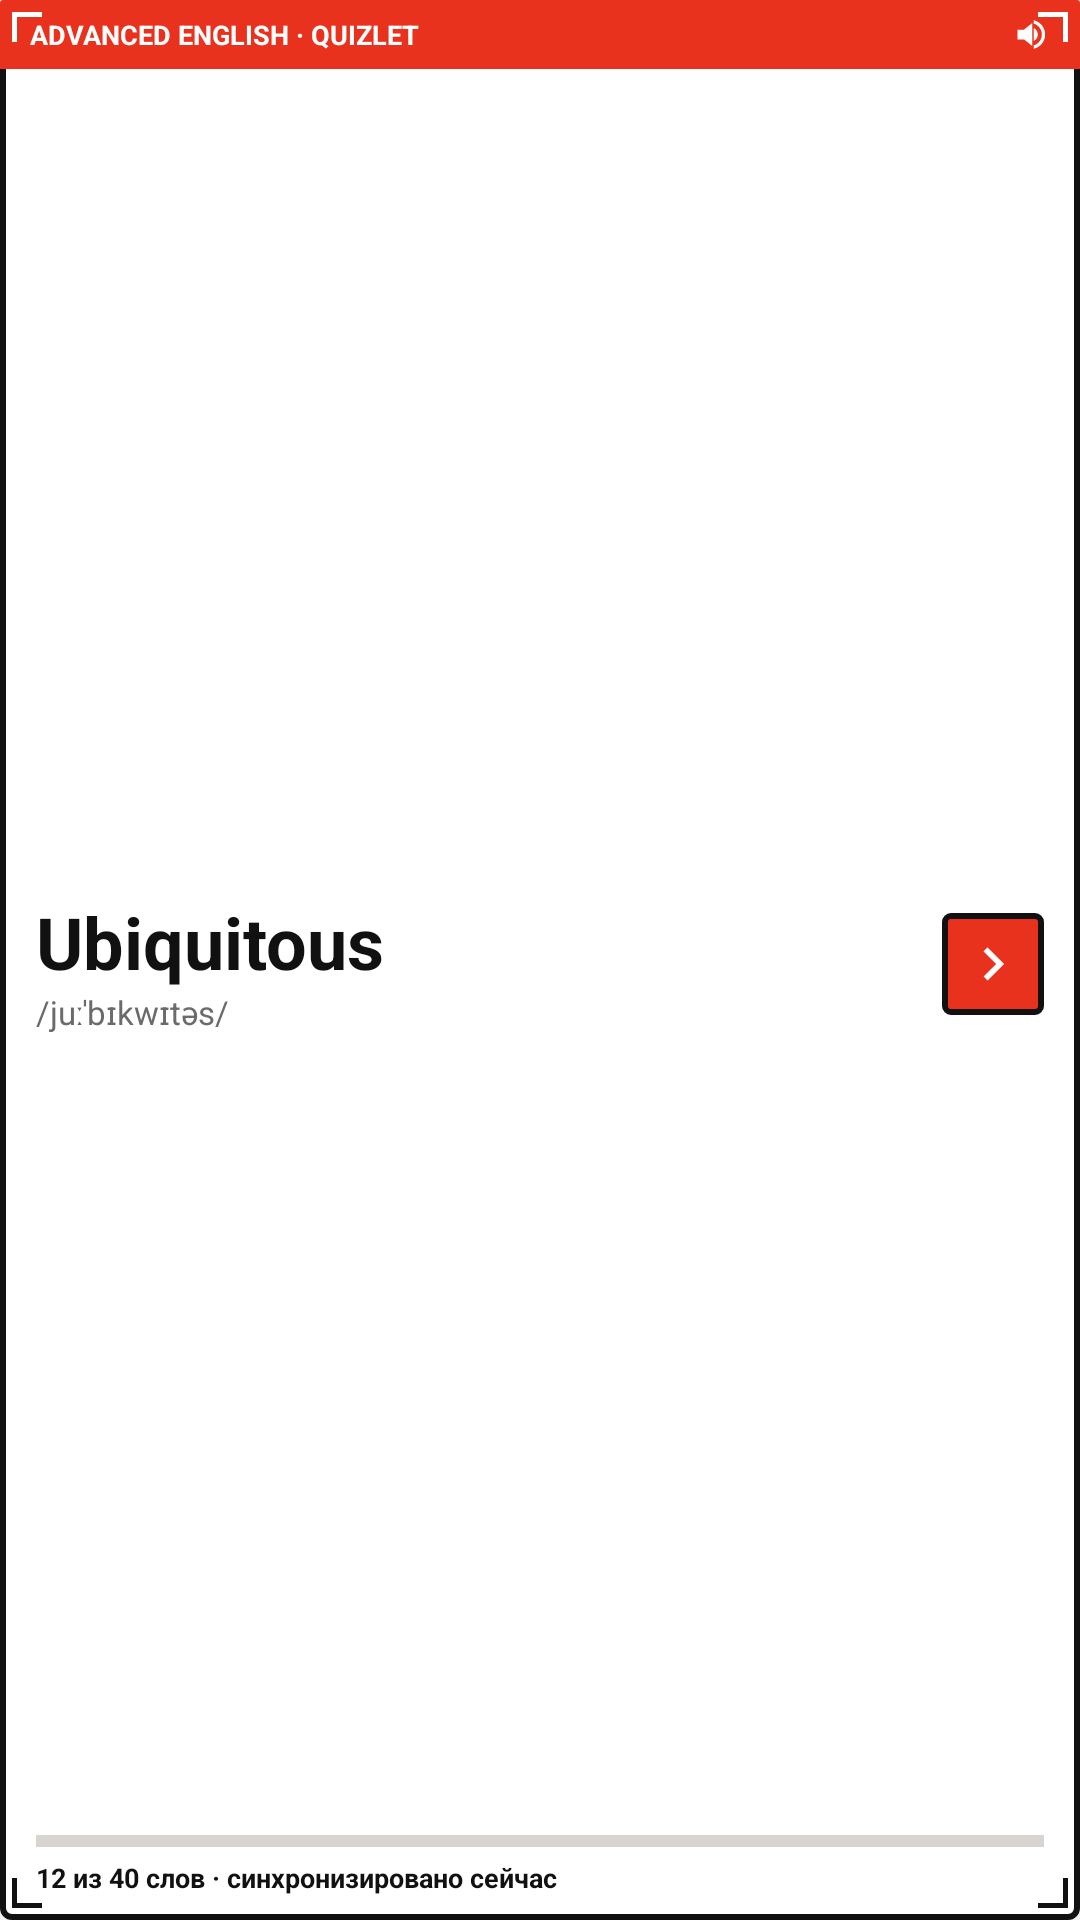

Icon click points for this 1080 × 1920 phone screenshot, format [x,y]:
chevron right: [993,964]
volume: [1031,34]
